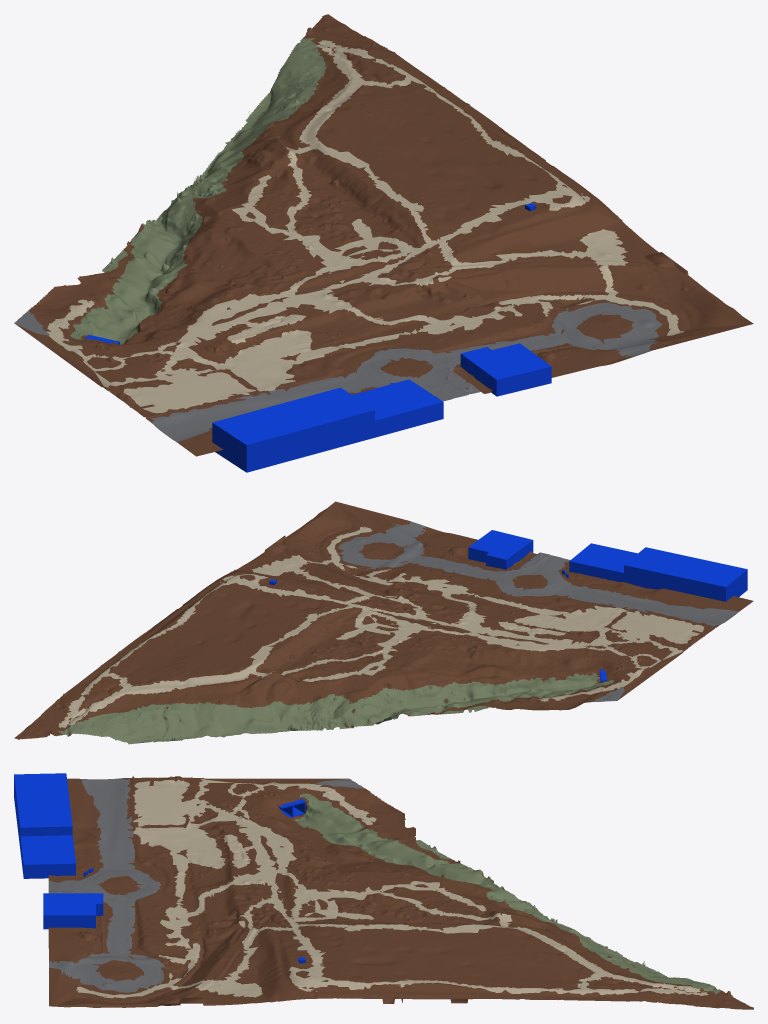
Rendered from Terrain_Material_DataMap.fbx.
3 views of the same model, one above another, from view 1: azimuth 30°, elevation 25°; view 2: azimuth 150°, elevation 25°; view 3: azimuth 270°, elevation 25° (orthographic). The views are drawn at different scales.
Visible parts, largest first — view 1: a1Map; view 2: a1Map; view 3: a1Map.
Part boxes in pixels (box(x1,y1,x2,y2)): a1Map: box(14, 14, 753, 472); a1Map: box(14, 501, 753, 744); a1Map: box(14, 773, 753, 1009).
Bounding box in the file's own units: 32339 × 2479 × 44881.
